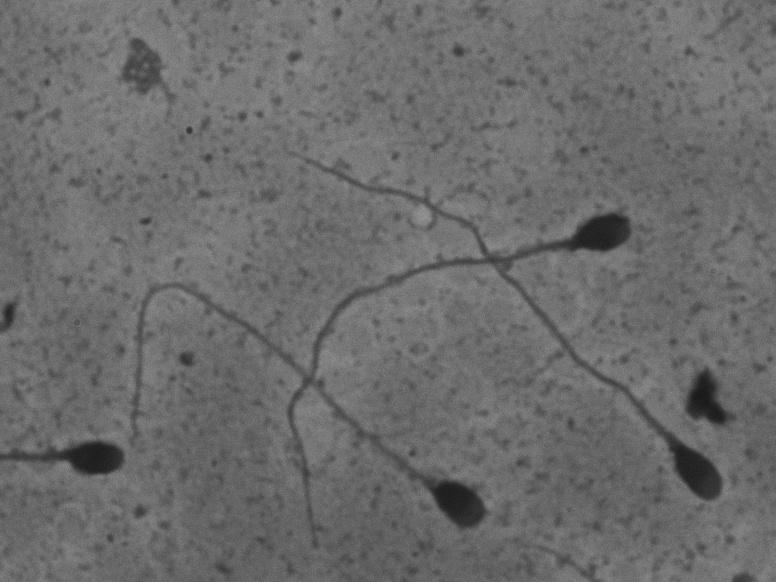Normal: (273, 138, 733, 515), (277, 207, 637, 554), (124, 268, 497, 548)
